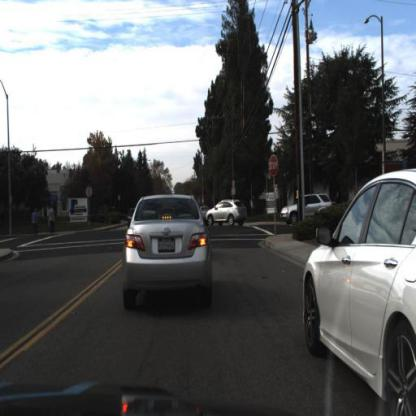car: (303, 166, 416, 416), (303, 166, 416, 415), (122, 193, 211, 308), (281, 192, 332, 227), (206, 200, 248, 230)
pedestrian: (32, 204, 41, 239), (48, 204, 57, 235), (48, 206, 56, 237)
